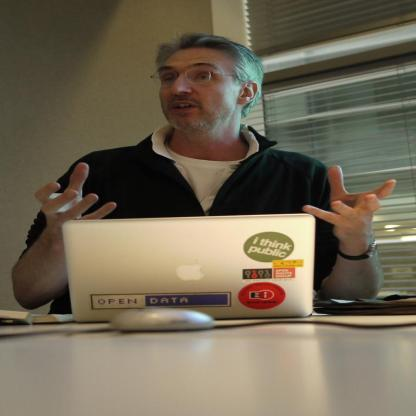board: (56, 209, 333, 328)
